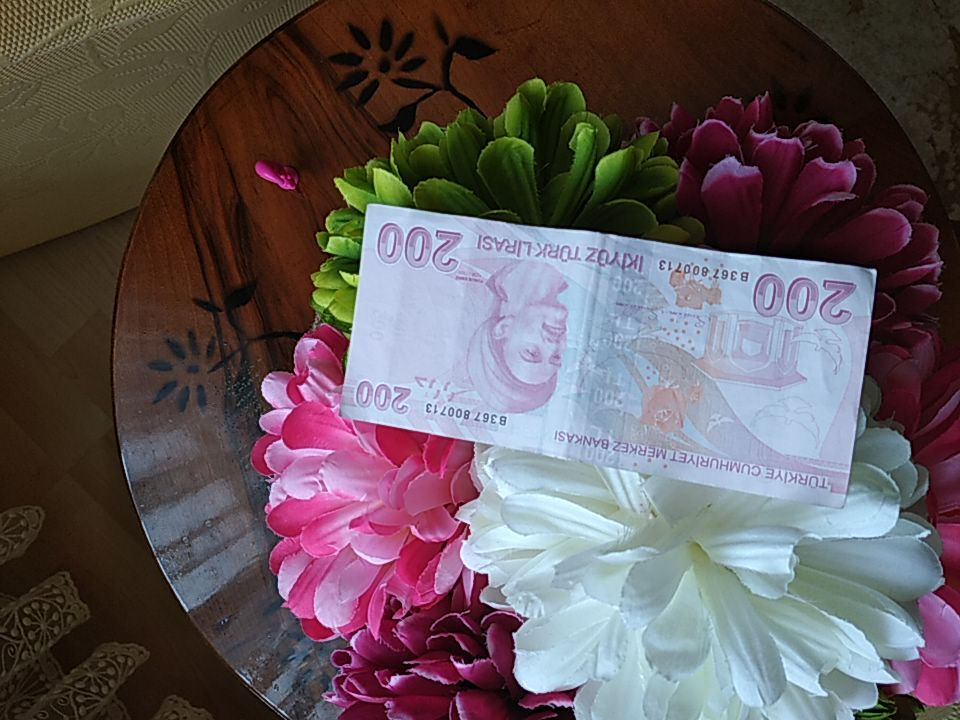200TL: (338, 202, 878, 510)
